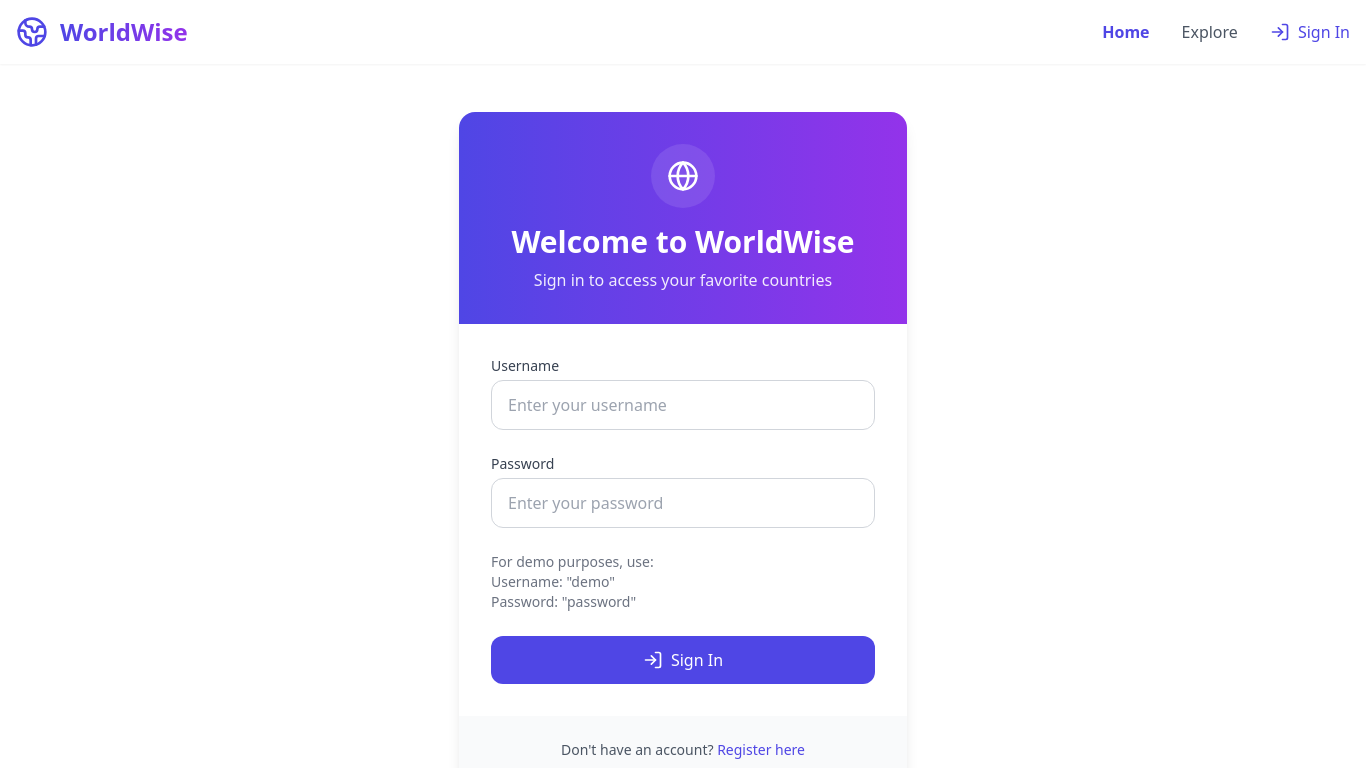
Test: LoginPage › displays loading state during login
Type "demo" into the field labelled "Username" at (683, 405), box [491,380,875,430]
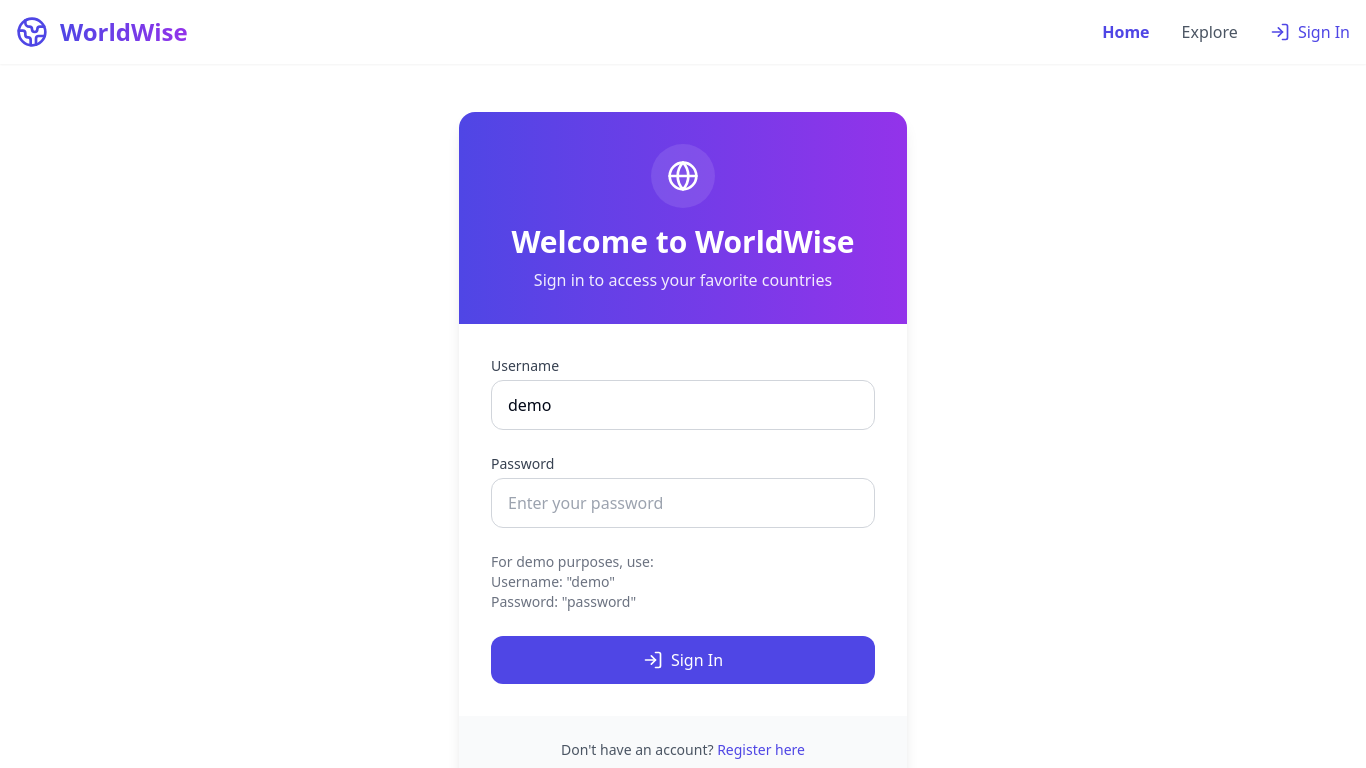
Type "password" into the password field labelled "Password" at (683, 503), box [491,478,875,528]
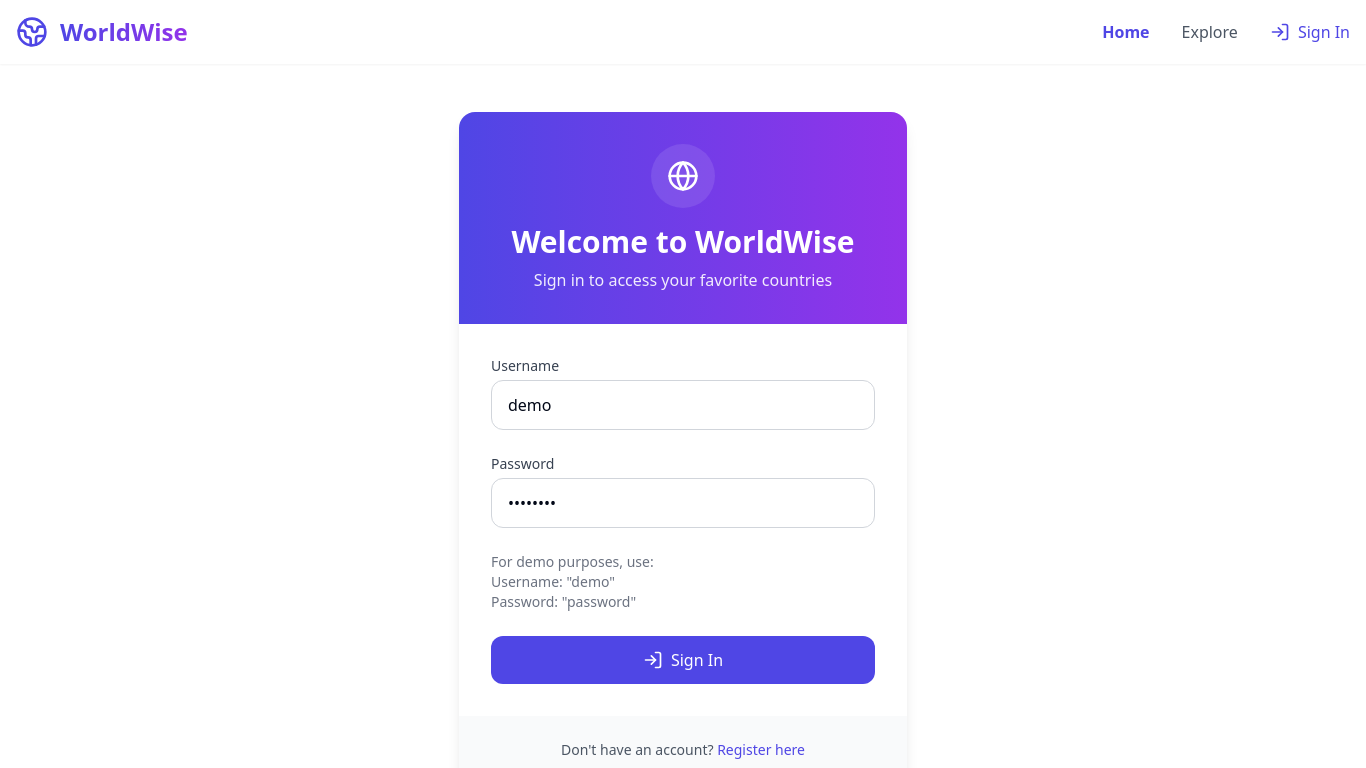
Click the button "Sign In" at (683, 660), box [491,636,875,684]
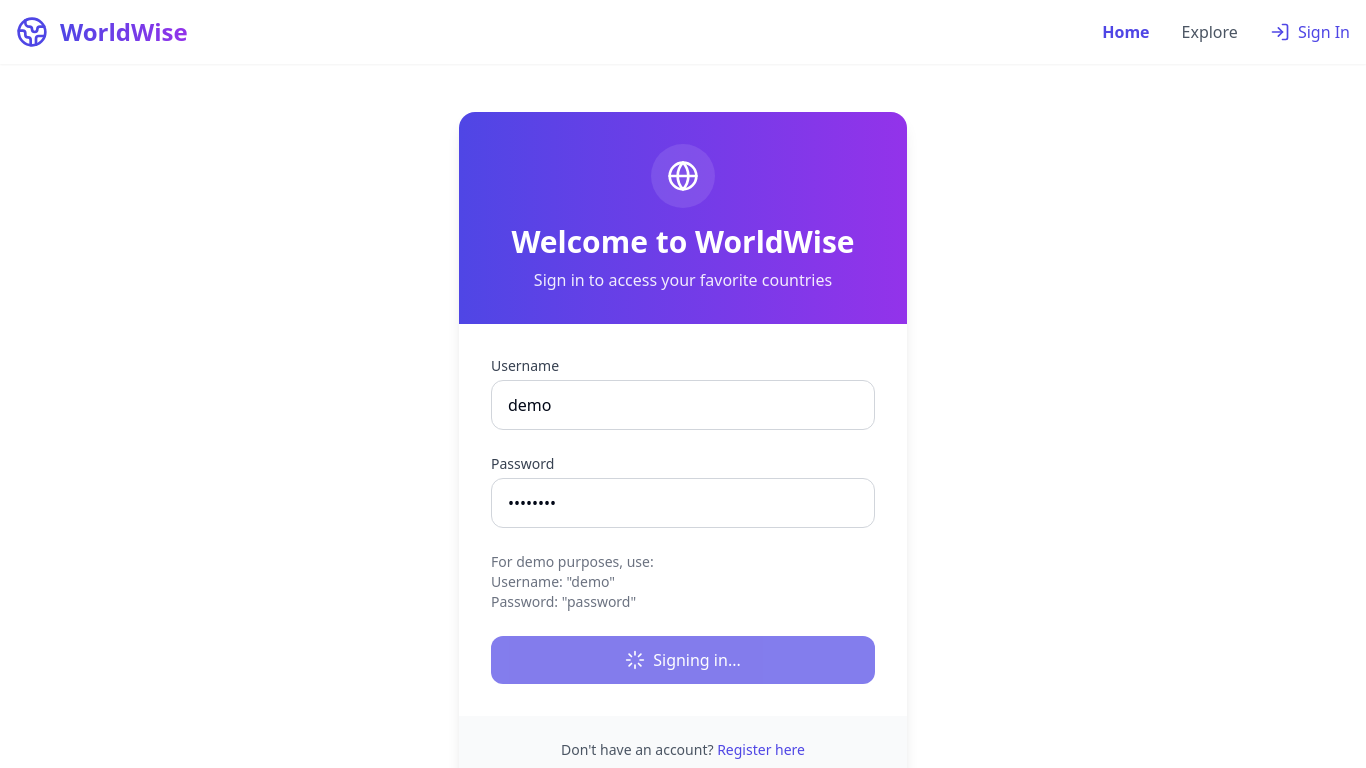
Expected: the button "Signing in..." is shown, [491,636,875,684]
